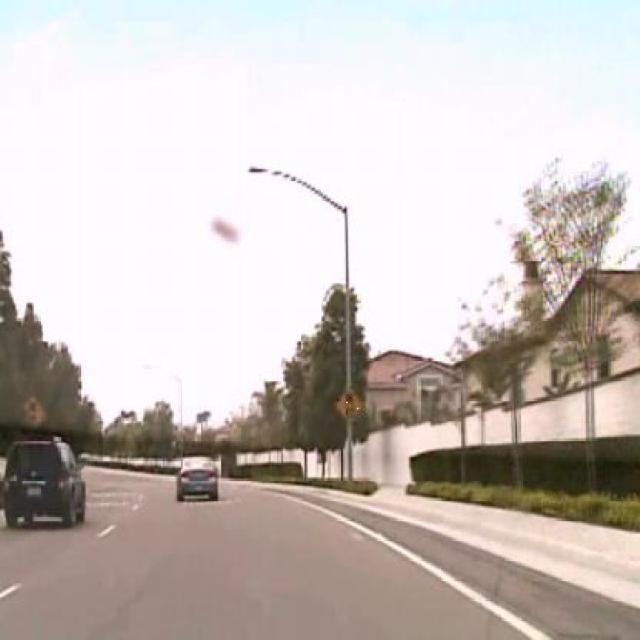signalAhead: (335, 384, 364, 426)
